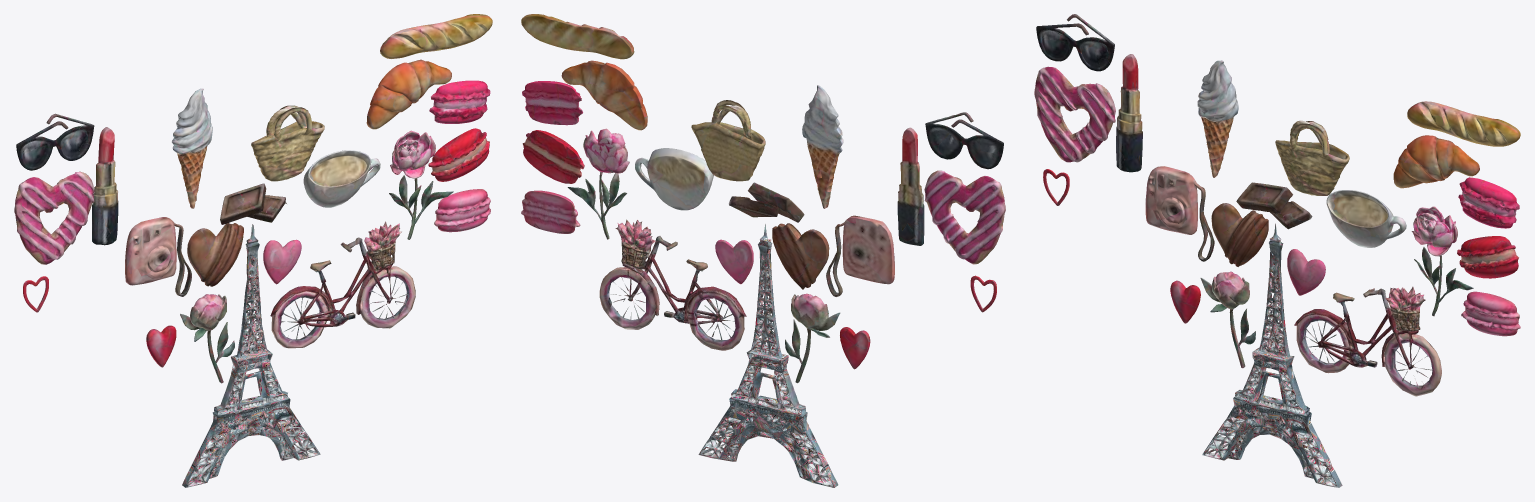
3 views of the same model, side by side, from view 1: azimuth 30°, elevation 25°; view 2: azimuth 150°, elevation 25°; view 3: azimuth 330°, elevation 25° (orthographic).
Visible parts, largest first — view 1: Mesh 11, Mesh 17, Mesh 1, Mesh 6, Mesh 15, Mesh 18, Mesh 20, Mesh 21, Mesh 9, Mesh 22, Mesh 12, Mesh 5 (+8 smaller); view 2: Mesh 11, Mesh 17, Mesh 1, Mesh 15, Mesh 6, Mesh 18, Mesh 20, Mesh 9, Mesh 21, Mesh 22, Mesh 12, Mesh 5 (+8 smaller); view 3: Mesh 11, Mesh 17, Mesh 1, Mesh 6, Mesh 15, Mesh 18, Mesh 20, Mesh 21, Mesh 9, Mesh 22, Mesh 5, Mesh 12 (+8 smaller).
Boxes of the visible parts, bbox=[...] form: Mesh 11: bbox=[182, 224, 320, 487]; Mesh 17: bbox=[270, 221, 415, 348]; Mesh 1: bbox=[14, 171, 94, 264]; Mesh 6: bbox=[125, 217, 191, 296]; Mesh 15: bbox=[251, 105, 324, 181]; Mesh 18: bbox=[303, 150, 380, 207]; Mesh 20: bbox=[366, 59, 451, 129]; Mesh 21: bbox=[380, 14, 492, 58]; Mesh 9: bbox=[172, 88, 212, 208]; Mesh 22: bbox=[389, 130, 453, 239]; Mesh 12: bbox=[187, 223, 243, 286]; Mesh 5: bbox=[92, 127, 118, 245]; Mesh 11: bbox=[698, 224, 838, 487]; Mesh 17: bbox=[599, 219, 746, 350]; Mesh 1: bbox=[924, 170, 1005, 264]; Mesh 15: bbox=[691, 100, 765, 181]; Mesh 6: bbox=[826, 215, 894, 296]; Mesh 18: bbox=[635, 148, 713, 210]; Mesh 20: bbox=[561, 60, 647, 130]; Mesh 9: bbox=[802, 85, 843, 208]; Mesh 21: bbox=[521, 14, 634, 59]; Mesh 22: bbox=[567, 128, 629, 239]; Mesh 12: bbox=[772, 223, 829, 289]; Mesh 5: bbox=[897, 127, 924, 245]; Mesh 11: bbox=[1202, 223, 1342, 487]; Mesh 17: bbox=[1294, 286, 1441, 396]; Mesh 1: bbox=[1034, 66, 1115, 162]; Mesh 6: bbox=[1145, 166, 1214, 261]; Mesh 15: bbox=[1275, 120, 1349, 195]; Mesh 18: bbox=[1326, 190, 1406, 247]; Mesh 20: bbox=[1393, 135, 1479, 188]; Mesh 21: bbox=[1407, 101, 1520, 146]; Mesh 9: bbox=[1197, 60, 1238, 177]; Mesh 22: bbox=[1411, 206, 1473, 316]; Mesh 5: bbox=[1116, 54, 1142, 172]; Mesh 12: bbox=[1211, 203, 1268, 266].
Size of the model in its own units: 1.9 by 1.54 by 0.0691.
Materials: 21 (21 with a texture image).
